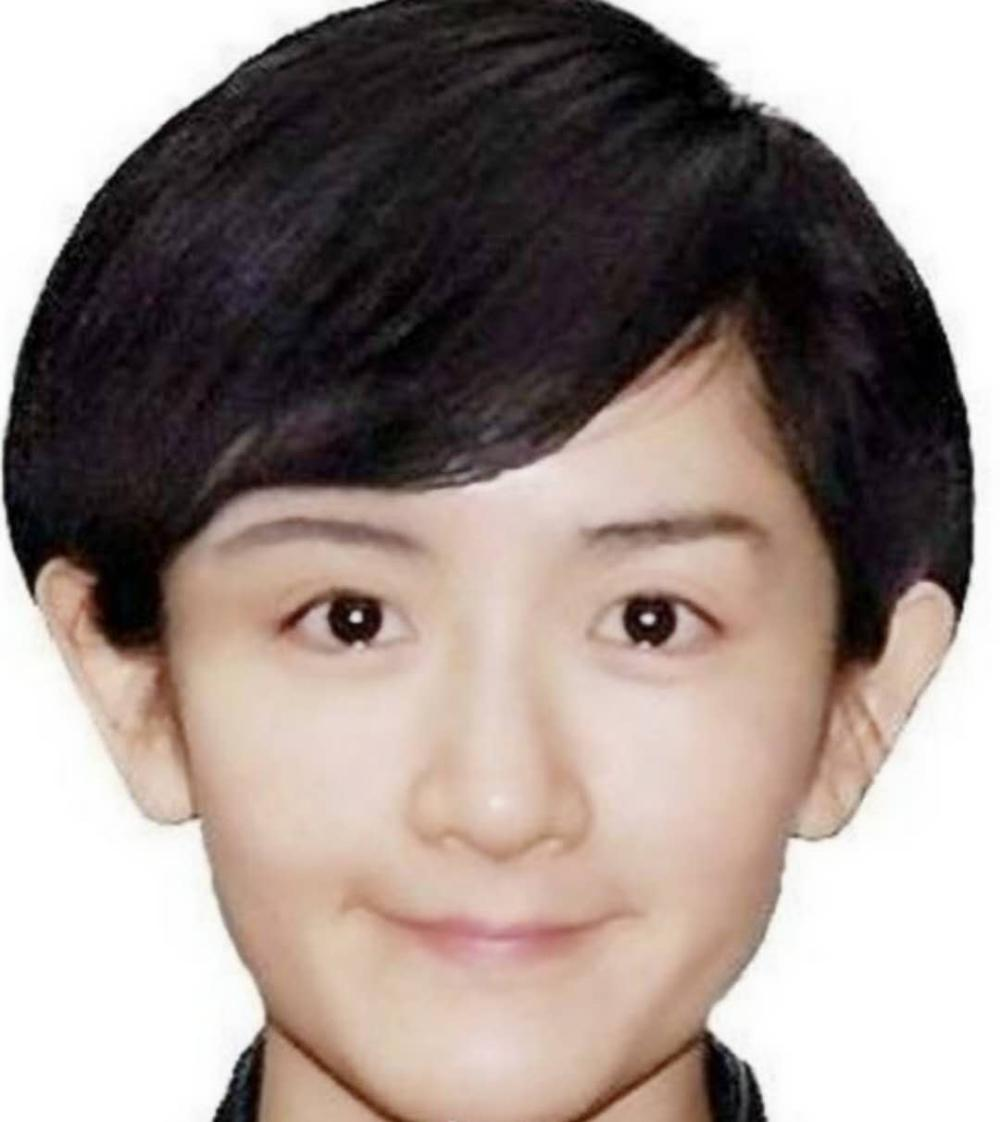unmask: (186, 465, 847, 1097)
